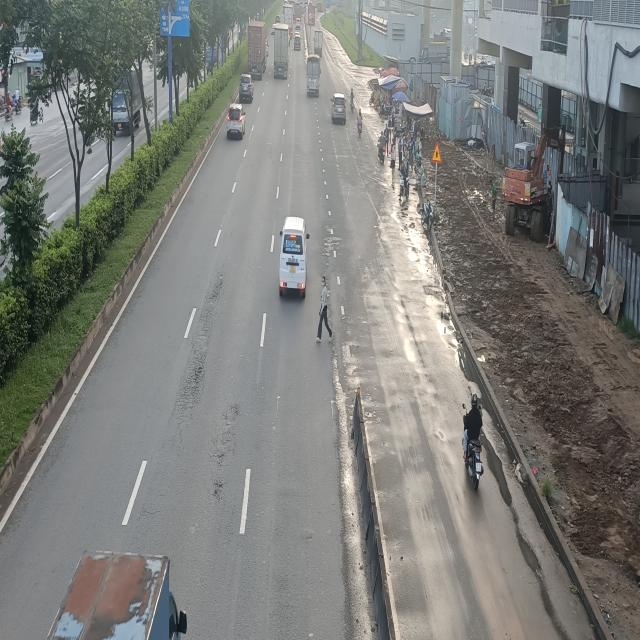car: (226, 106, 246, 143), (332, 93, 348, 126), (239, 75, 256, 104)
container: (247, 20, 266, 79), (272, 24, 290, 80)
truck: (306, 52, 322, 98)
van: (277, 217, 310, 299)
